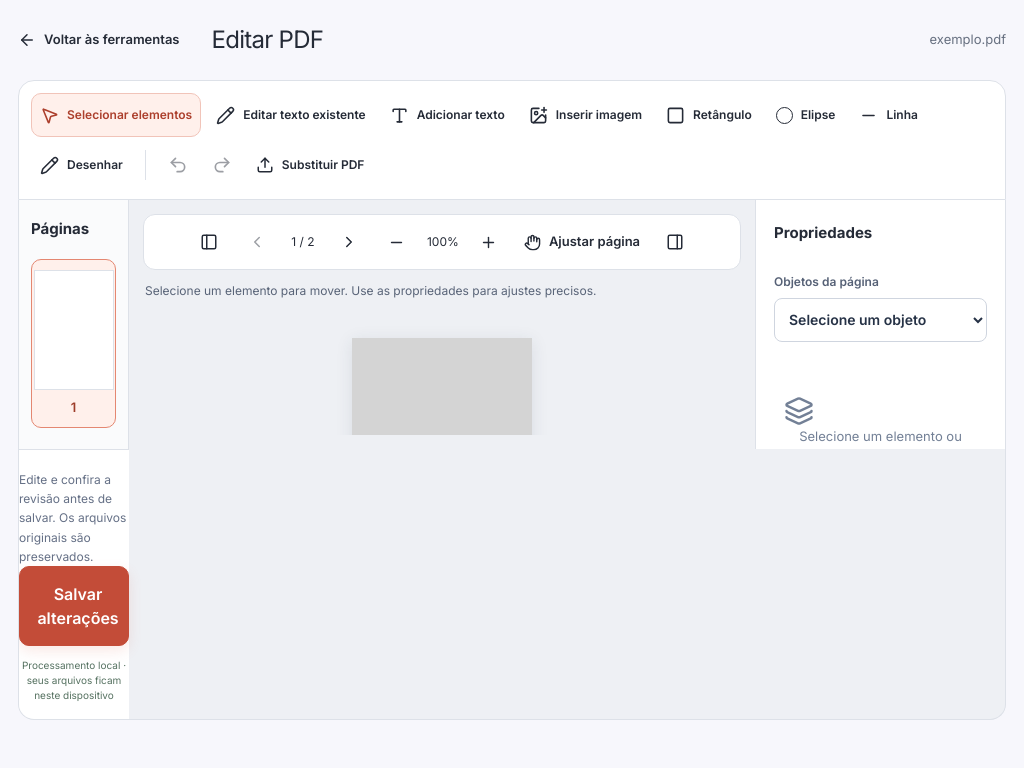
Test: navega pela revisão exportável e reutiliza página em cache sem refazer a edição
This screenshot has width=1024, height=768.
Click the button named "Próxima página" at (349, 242), box [327,220,371,264]
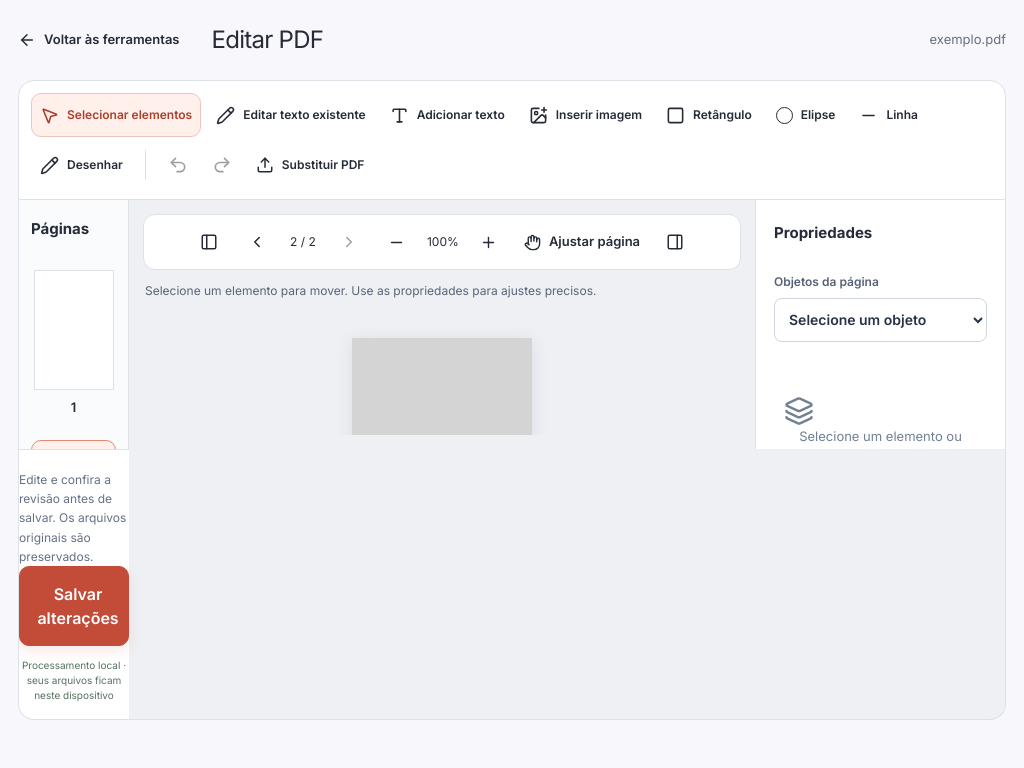
Now the text "2 / 2" is shown, box [290,234,316,249]
Click the button named "Página anterior" at (257, 242), box [235,220,279,264]
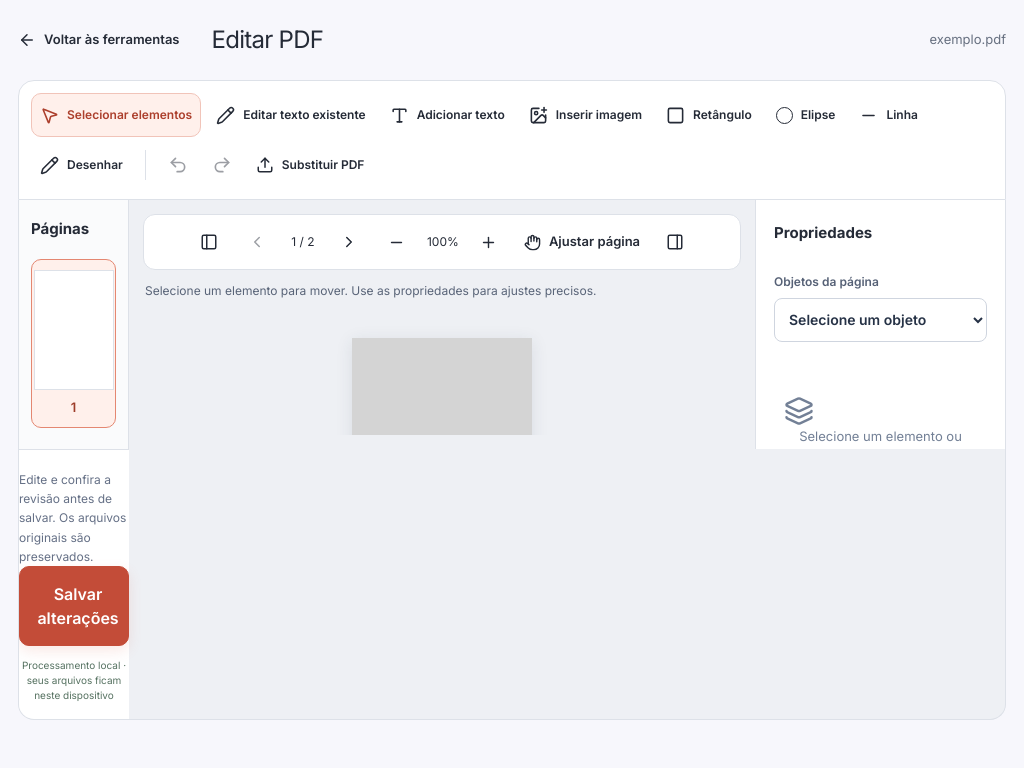
Expected: the button named "Desfazer" is disabled, [159,143,197,187]
Now the text "1 / 2" is shown, box [291,234,315,249]
